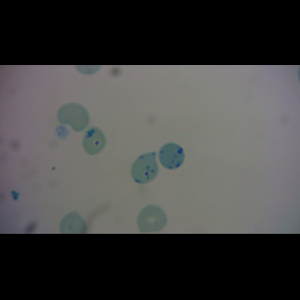aggregate reticulocyte: (157, 142, 186, 170)
erythrocyte: (56, 102, 90, 133), (136, 204, 167, 234), (82, 126, 107, 157)
punctate reticulocyte: (130, 151, 160, 184)
